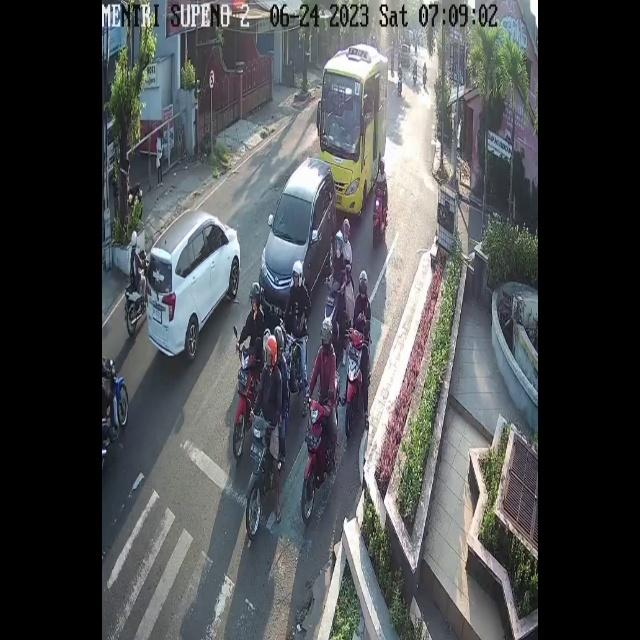bus: (247, 414, 284, 544), (303, 401, 335, 520), (123, 251, 157, 332), (99, 357, 129, 444), (233, 345, 255, 460), (346, 326, 368, 432), (284, 332, 308, 394), (324, 277, 344, 345), (374, 181, 387, 245)
car: (318, 42, 387, 214)
motorcycle: (149, 206, 241, 362), (262, 156, 332, 310)
